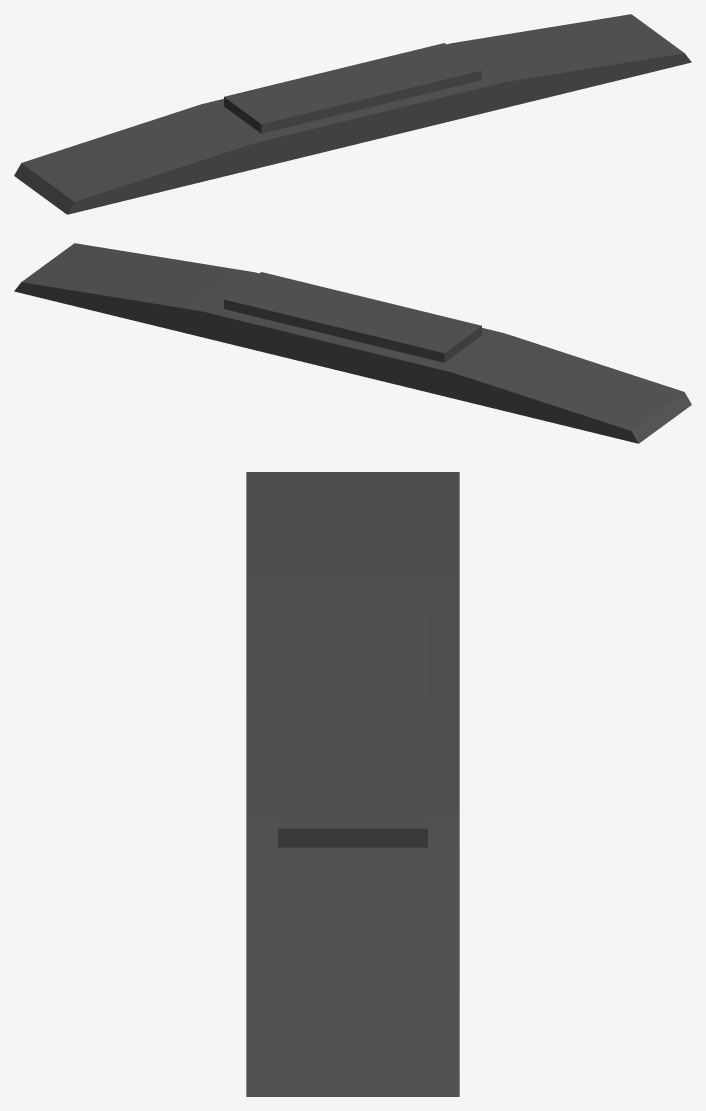
Rendered from Itr_Obj_Monitor_LCD_Base_05.FBX.
The picture shows the model from 3 angles, top to bottom: view 1: azimuth 30°, elevation 25°; view 2: azimuth 150°, elevation 25°; view 3: azimuth 270°, elevation 25°; orthographic projection. The views are drawn at different scales.
Parts seen in each view (by area): view 1: Itr_Obj_Monitor_LCD_Base_05; view 2: Itr_Obj_Monitor_LCD_Base_05; view 3: Itr_Obj_Monitor_LCD_Base_05.
Part boxes in pixels (x1,y1,x2,y2): Itr_Obj_Monitor_LCD_Base_05: (14, 14, 691, 214); Itr_Obj_Monitor_LCD_Base_05: (14, 243, 691, 443); Itr_Obj_Monitor_LCD_Base_05: (246, 472, 459, 1096).
Size of the model in its own units: 38.49 by 2.09 by 5.68.
